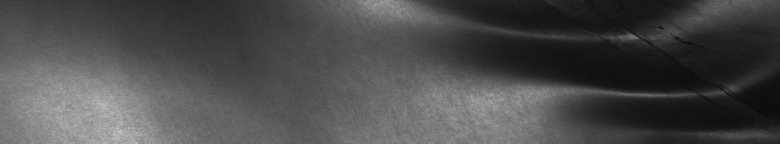ke: (497, 27, 743, 136)
